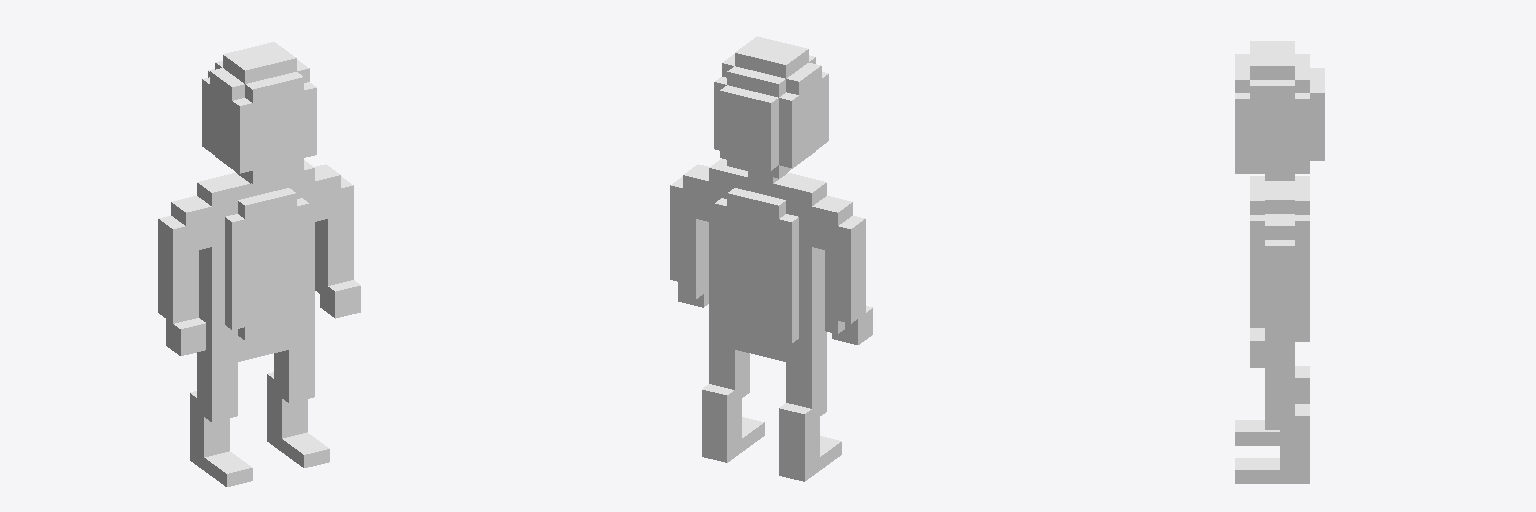
Rendered from CustomerModels4.obj.
3 views of the same model, side by side, from view 1: azimuth 30°, elevation 25°; view 2: azimuth 150°, elevation 25°; view 3: azimuth 270°, elevation 25° (orthographic).
Parts seen in each view (by area): view 1: object 1; view 2: object 1; view 3: object 1.
Part boxes in pixels (left/top/right/bottom): object 1: left=158, top=42, right=360, bottom=486; object 1: left=670, top=36, right=872, bottom=481; object 1: left=1235, top=41, right=1324, bottom=483.
Size of the model in its own units: 1.4 by 3 by 0.6.